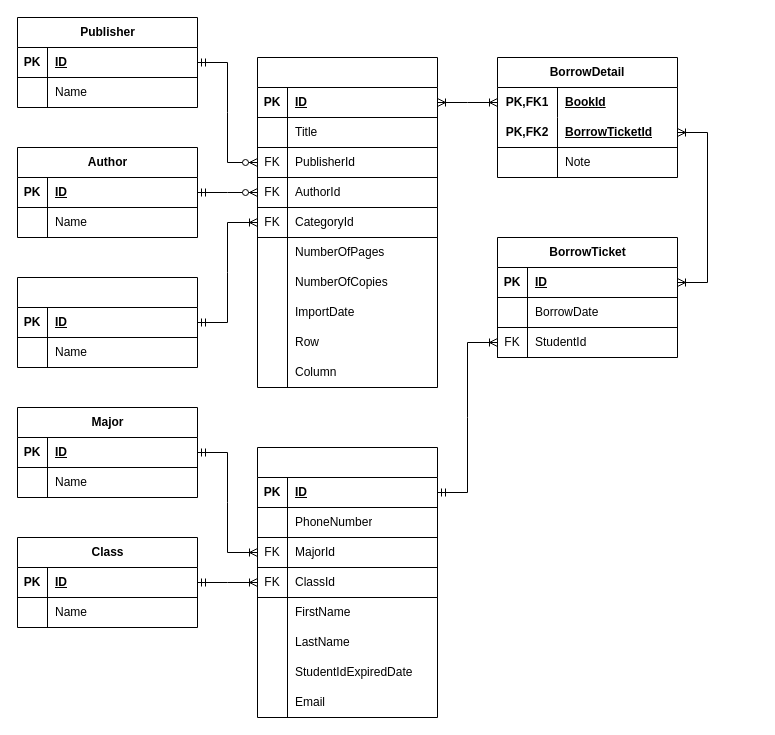
Some shapes in this 775 by 735 pixel diagram are drawn without their labels. Each missing label, with the box of its shape:
Books: (256, 56, 438, 208)
Category: (16, 276, 198, 368)
Student: (256, 446, 438, 598)
